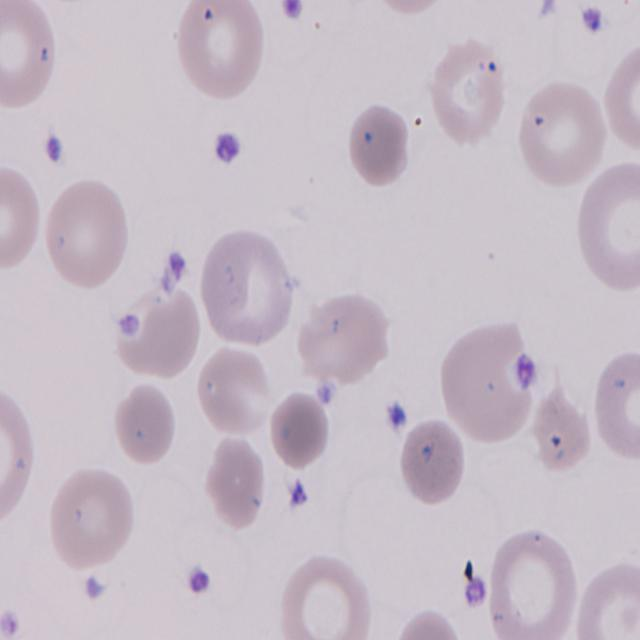Platelets: (385, 400, 412, 436)
RBC: (201, 223, 297, 349), (440, 318, 534, 446), (514, 74, 608, 188), (486, 527, 582, 638), (42, 178, 130, 288), (431, 34, 514, 148), (176, 0, 266, 103), (292, 286, 381, 388), (49, 464, 134, 570), (576, 160, 640, 298), (196, 342, 281, 444), (278, 556, 377, 640), (0, 0, 61, 118), (206, 433, 270, 532), (594, 349, 640, 466), (1, 382, 36, 528), (575, 560, 640, 638), (0, 158, 43, 273), (601, 38, 640, 164), (388, 610, 471, 640)
Spherocyte: (394, 414, 466, 507), (348, 100, 414, 184), (266, 388, 332, 472), (113, 382, 177, 466)
